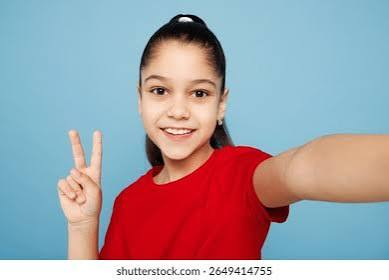peace_sign: (57, 122, 107, 222)
